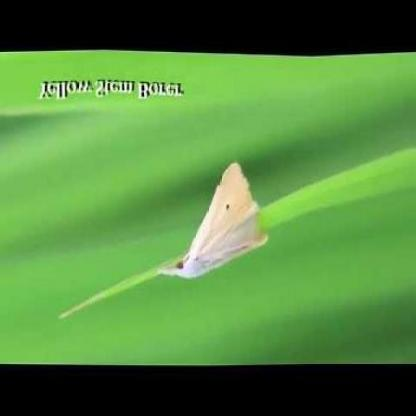stem-borer: (160, 162, 270, 282)
